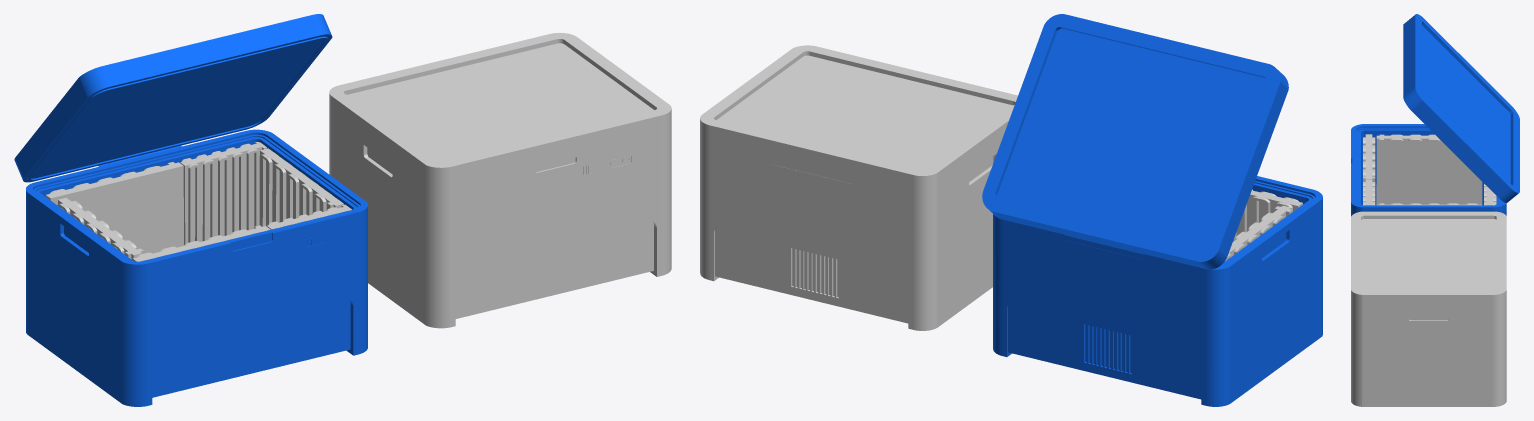
File: iceboxv2.gltf
The picture shows the model from 3 angles, left to right: view 1: azimuth 30°, elevation 25°; view 2: azimuth 150°, elevation 25°; view 3: azimuth 270°, elevation 25°; orthographic projection. The views are drawn at different scales.
Parts seen in each view (by area): view 1: ice box final.001, ice box final.002, ice box final.003; view 2: ice box final.001, ice box final.002, ice box final.003; view 3: ice box final.002, ice box final.001, ice box final.003.
Part boxes in pixels (<box>): ice box final.001: <box>14,14,367,406</box>; ice box final.002: <box>329,32,671,328</box>; ice box final.003: <box>45,142,351,261</box>; ice box final.001: <box>982,14,1322,406</box>; ice box final.002: <box>700,45,1017,330</box>; ice box final.003: <box>1225,189,1302,261</box>; ice box final.002: <box>1351,211,1506,406</box>; ice box final.001: <box>1351,14,1519,216</box>; ice box final.003: <box>1363,134,1496,205</box>.
Bounding box in the file's own units: 69.44 × 37.04 × 26.54.
